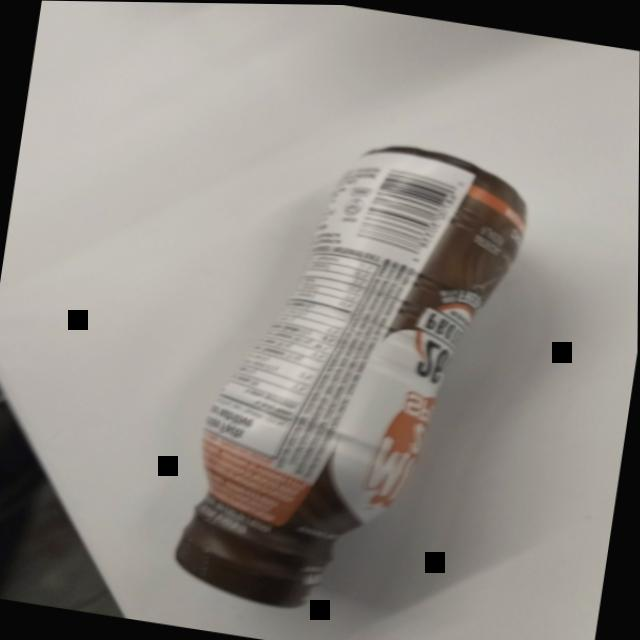chocolate_drink: (154, 106, 543, 640)
